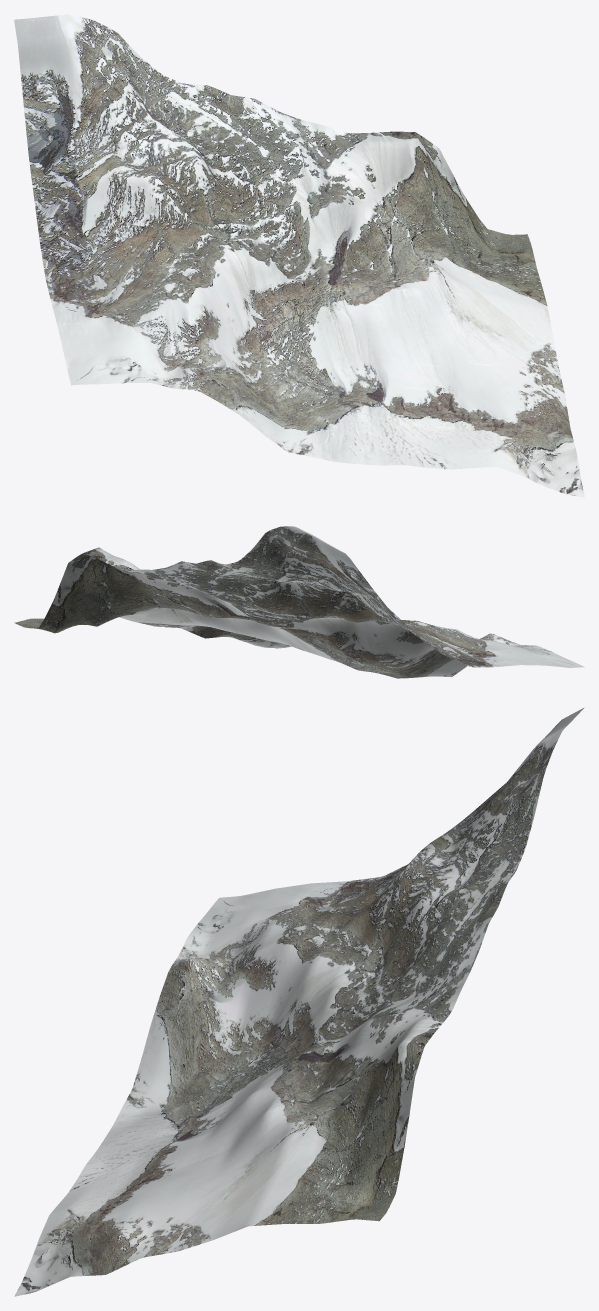
File: SM_GMap_Close00.fbx
The picture shows the model from 3 angles, top to bottom: view 1: azimuth 30°, elevation 25°; view 2: azimuth 150°, elevation 25°; view 3: azimuth 270°, elevation 25°; orthographic projection. The views are drawn at different scales.
Parts seen in each view (by area): view 1: SM_GMap_Close00; view 2: SM_GMap_Close00; view 3: SM_GMap_Close00.
Part boxes in pixels (x1,y1,x2,y2): SM_GMap_Close00: (14, 14, 584, 497); SM_GMap_Close00: (14, 526, 584, 678); SM_GMap_Close00: (14, 707, 584, 1296).
Bounding box in the file's own units: 238425 × 160177 × 198622.
